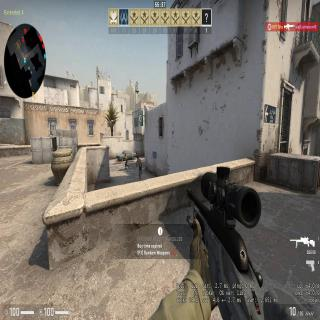T-Body: (138, 158, 142, 176), (124, 154, 128, 168), (136, 152, 138, 165)
T-Head: (124, 153, 126, 157), (136, 152, 137, 155), (140, 158, 140, 162)
